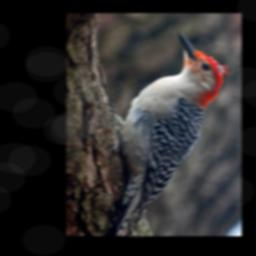Woodpecker: (105, 32, 229, 235)
